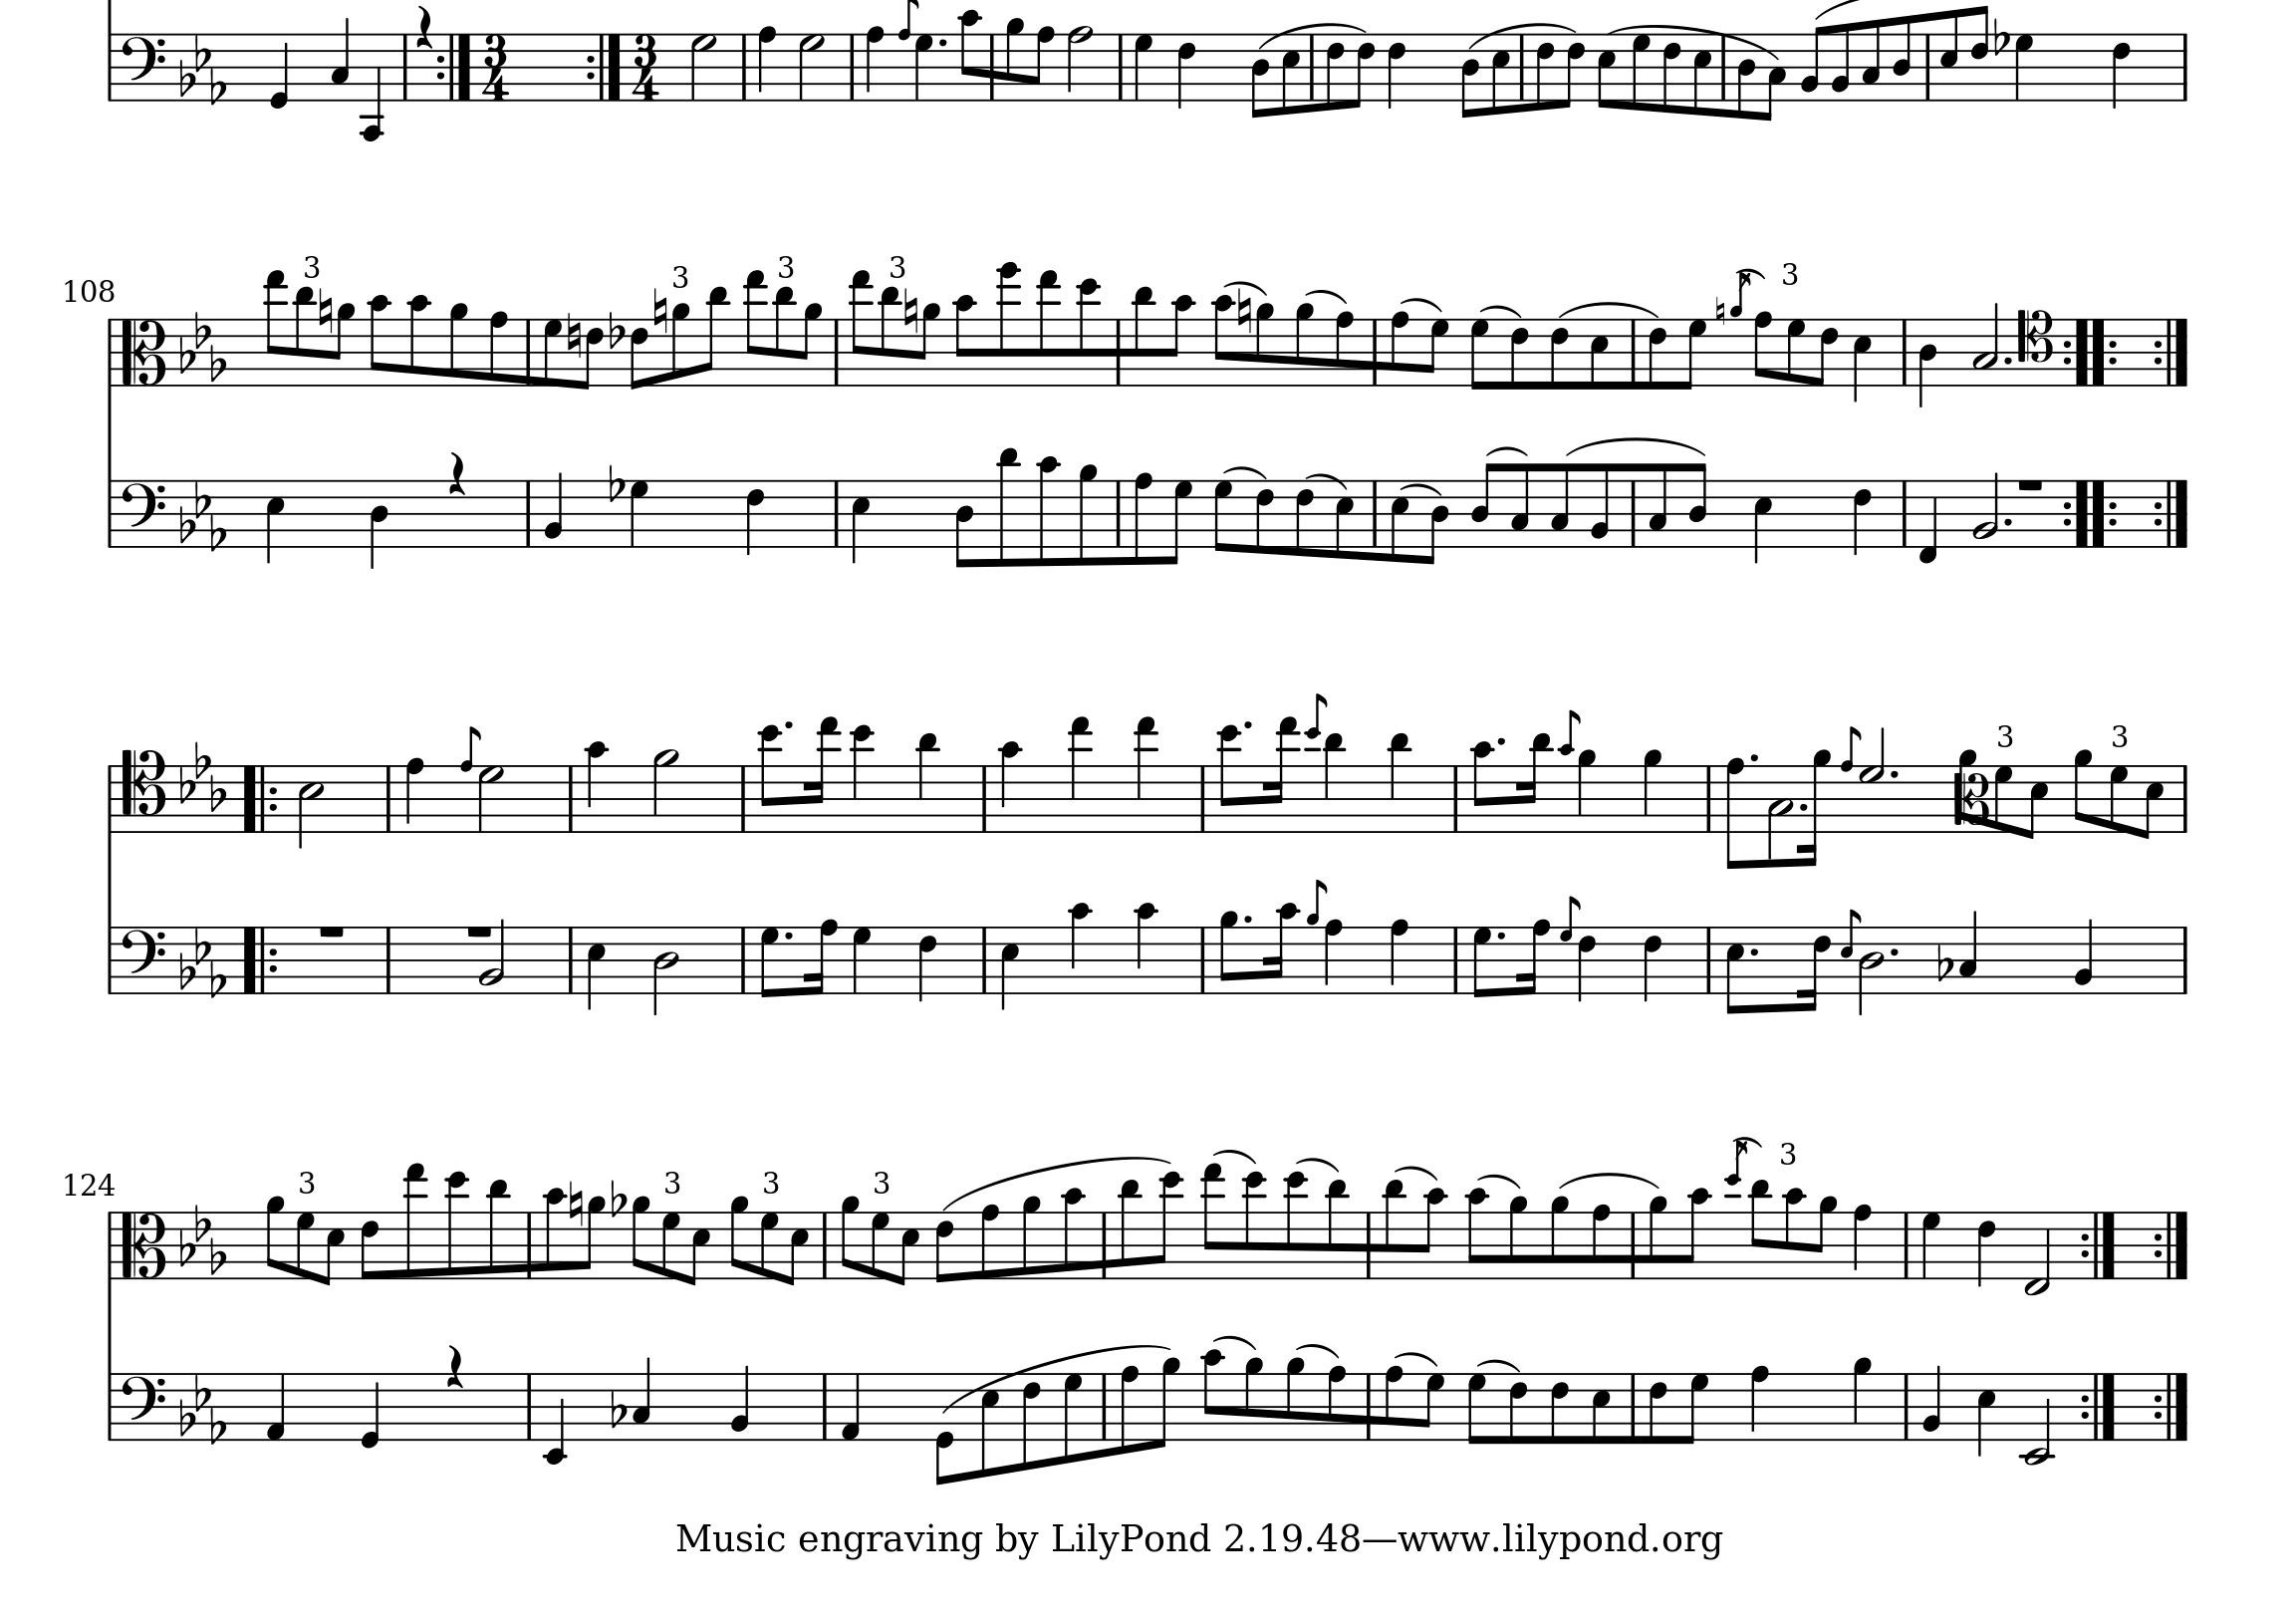0: (79, 276, 97, 304)
1: (63, 276, 77, 304), (63, 1171, 77, 1197)
16_10: (1265, 900, 1300, 995)
16_11: (1518, 731, 1553, 831)
16_13: (1265, 714, 1300, 833), (806, 714, 840, 833)
16_6: (1799, 923, 1832, 1012)
16_8: (805, 917, 838, 995), (1518, 917, 1551, 995)
16_9: (1797, 747, 1832, 866)
2: (79, 1171, 97, 1195)
2_-1: (2024, 1209, 2052, 1297)
2_-2: (2022, 1369, 2054, 1466)
2_2: (1973, 469, 2001, 548), (480, 919, 508, 997)
2_3: (1767, 763, 1794, 868), (1971, 301, 2001, 388)
2_4: (652, 923, 683, 1016), (1859, 923, 1885, 1014)
2_5: (295, 763, 325, 851)
2_7: (1860, 724, 1887, 833), (689, 32, 717, 102), (798, 32, 826, 102), (478, 763, 506, 833)
2_8: (1066, 25, 1094, 102)
2_9: (652, 747, 682, 833)
3: (481, 32, 508, 69), (632, 32, 659, 69), (887, 251, 906, 279), (302, 251, 321, 278), (871, 1169, 891, 1195), (671, 262, 689, 290), (1996, 722, 2015, 747), (1778, 1141, 1797, 1165), (297, 1169, 316, 1193), (776, 253, 794, 279), (761, 1171, 780, 1193), (662, 1169, 680, 1193), (2112, 722, 2127, 747)
4: (481, 69, 509, 100), (631, 69, 659, 100), (97, 1171, 116, 1197)
4_-1: (1918, 476, 1941, 562)
4_-2: (543, 1369, 569, 1464)
4_-4: (360, 32, 385, 139)
4_0: (360, 1369, 383, 1450), (269, 32, 292, 111)
4_1: (264, 1369, 288, 1441), (840, 1371, 863, 1441)
4_10: (583, 740, 610, 833), (1133, 900, 1158, 997), (1068, 900, 1093, 995), (998, 740, 1022, 833)
4_11: (1321, 731, 1347, 833), (915, 731, 940, 833), (1388, 731, 1412, 833)
4_12: (850, 724, 875, 833)
4_13: (1068, 715, 1091, 833), (1135, 717, 1158, 833)
4_2: (2073, 916, 2097, 995), (543, 471, 567, 548), (729, 1362, 752, 1441), (1920, 1362, 1943, 1441)
4_3: (631, 1353, 655, 1443), (1959, 907, 1982, 995), (329, 16, 351, 102)
4_4: (367, 476, 392, 571), (1918, 316, 1943, 408)
4_5: (264, 475, 290, 566), (585, 923, 610, 1011), (1852, 316, 1874, 404), (1975, 1369, 1997, 1457), (850, 478, 873, 564), (1751, 478, 1774, 564), (1000, 923, 1021, 1011)
4_6: (915, 923, 940, 1004), (1641, 923, 1665, 1004), (745, 478, 768, 557), (1852, 478, 1874, 557), (1576, 924, 1599, 1004), (1975, 1209, 1997, 1288), (1177, 32, 1198, 109), (1388, 32, 1409, 109), (2112, 32, 2131, 109)
4_7: (850, 924, 873, 995), (1920, 1209, 1943, 1280), (629, 478, 652, 547), (1133, 32, 1154, 102), (2013, 32, 2034, 102), (913, 33, 935, 102)
4_8: (1321, 917, 1346, 995), (1852, 1200, 1874, 1281), (1748, 1362, 1771, 1441), (864, 25, 887, 102), (404, 756, 427, 833), (1388, 917, 1411, 995), (757, 25, 778, 102)
4_9: (1574, 747, 1599, 833), (1641, 747, 1664, 833), (1852, 1355, 1874, 1441)
8: (98, 278, 116, 302)
8_0: (933, 1371, 956, 1485)
8_10: (1681, 1186, 1713, 1280), (1036, 453, 1061, 568), (1166, 294, 1196, 387), (1418, 1186, 1448, 1280), (1470, 738, 1497, 833), (408, 292, 432, 387), (1200, 1348, 1224, 1443), (957, 9, 982, 102), (367, 294, 392, 387), (1061, 1186, 1086, 1280), (1465, 1186, 1490, 1280), (1781, 1186, 1806, 1280), (543, 1186, 566, 1281), (954, 294, 977, 387), (1212, 294, 1235, 387)
8_11: (701, 285, 731, 388), (996, 448, 1021, 568), (487, 1176, 511, 1280), (1325, 1176, 1349, 1280), (1381, 1178, 1405, 1280), (1748, 1178, 1773, 1280), (878, 285, 901, 388), (1133, 285, 1156, 388), (1119, 1178, 1142, 1280), (293, 283, 314, 388), (773, 283, 794, 387)
8_12: (1154, 1169, 1184, 1281), (757, 721, 783, 833), (444, 1169, 469, 1281), (1217, 722, 1242, 833), (1284, 1171, 1309, 1281), (1079, 274, 1101, 387), (1244, 1171, 1267, 1281)
8_13: (1200, 1160, 1224, 1281), (402, 1160, 427, 1280), (1036, 267, 1059, 387), (264, 269, 286, 387), (745, 267, 766, 388), (850, 267, 871, 388)
8_14: (996, 260, 1021, 387)
8_2: (1588, 460, 1613, 548), (1801, 25, 1825, 102), (1830, 21, 1852, 102)
8_3: (1764, 32, 1788, 123), (1548, 460, 1572, 550), (1646, 460, 1671, 548), (1509, 460, 1532, 550), (1860, 18, 1883, 104)
8_4: (1423, 478, 1451, 566), (1470, 460, 1498, 548), (1890, 14, 1913, 102), (954, 478, 975, 569), (1736, 33, 1757, 121), (1688, 460, 1709, 548), (1460, 32, 1481, 118), (1251, 32, 1270, 118)
8_5: (978, 1369, 1000, 1478), (2024, 763, 2050, 840), (894, 1209, 921, 1287), (1939, 9, 1960, 102), (1725, 923, 1746, 1016), (2141, 763, 2166, 842), (321, 1209, 346, 1287), (687, 1209, 711, 1287), (785, 1209, 810, 1285), (1333, 478, 1354, 561), (1692, 32, 1711, 118), (1390, 478, 1409, 564), (1281, 32, 1300, 116), (1491, 32, 1511, 114), (1588, 316, 1609, 390), (1597, 32, 1616, 109), (1592, 1369, 1611, 1445)
8_6: (1021, 1369, 1042, 1471), (1351, 32, 1377, 107), (578, 316, 604, 390), (1969, 5, 1989, 102), (1562, 32, 1586, 107), (1646, 1369, 1669, 1445), (1509, 316, 1532, 390), (1646, 316, 1669, 390), (933, 1209, 956, 1283), (358, 1209, 381, 1281), (1816, 316, 1839, 387), (1535, 33, 1556, 109), (1254, 478, 1275, 554), (1507, 1369, 1528, 1445), (1549, 1369, 1570, 1445), (1662, 33, 1681, 114), (629, 316, 650, 390), (1549, 316, 1570, 390), (1325, 32, 1344, 111), (1295, 478, 1314, 557)
8_7: (1165, 478, 1195, 564), (1061, 1371, 1084, 1464), (1681, 1369, 1709, 1445), (1679, 316, 1708, 390), (1418, 1369, 1446, 1441), (1423, 316, 1451, 387), (1630, 32, 1651, 111), (759, 924, 782, 997), (293, 1207, 316, 1280), (1992, 763, 2015, 833), (659, 1209, 682, 1280), (1467, 1371, 1488, 1446), (1469, 316, 1490, 390), (1214, 478, 1235, 552), (541, 316, 562, 388), (1472, 924, 1493, 997), (870, 1207, 891, 1280), (1787, 316, 1808, 387), (2108, 763, 2129, 833), (759, 1209, 780, 1280)
8_8: (1725, 756, 1750, 868), (1133, 471, 1156, 568), (1031, 25, 1058, 100), (1119, 1362, 1140, 1455), (1383, 1362, 1405, 1441), (1333, 309, 1356, 387), (1751, 309, 1774, 387), (978, 1202, 1001, 1280), (1590, 1202, 1613, 1280), (488, 309, 509, 388), (1326, 1362, 1347, 1441), (1390, 309, 1411, 387)
8_9: (1152, 1357, 1180, 1448), (1077, 460, 1100, 568), (330, 302, 358, 388), (580, 1195, 606, 1280), (1813, 1195, 1839, 1280), (799, 301, 824, 387), (917, 301, 942, 387), (448, 301, 471, 387), (1217, 909, 1240, 995), (1021, 1193, 1043, 1280), (1507, 1193, 1530, 1280), (629, 1195, 652, 1280), (1646, 1195, 1669, 1280), (1254, 301, 1275, 388), (1244, 1355, 1265, 1443), (729, 1193, 750, 1280), (840, 1193, 861, 1280), (1005, 16, 1026, 100), (1295, 302, 1316, 387), (1549, 1195, 1570, 1280), (1284, 1357, 1305, 1441), (671, 302, 690, 388), (2073, 747, 2092, 833), (265, 1193, 285, 1280)
Acciaccature: (1722, 1141, 1751, 1280)
Appoggiature: (1555, 707, 1581, 833), (1303, 689, 1326, 828), (455, 724, 481, 831), (1302, 877, 1325, 995), (1838, 722, 1862, 831), (1556, 893, 1581, 997), (1838, 909, 1860, 995)
Cclef: (118, 316, 169, 388), (118, 1209, 169, 1280), (1955, 761, 1989, 831)
Fclef: (118, 476, 167, 548), (119, 923, 167, 995), (121, 1369, 167, 1441), (121, 32, 167, 102)
Flat: (1934, 940, 1953, 984), (608, 1388, 627, 1429), (606, 460, 624, 503), (608, 1176, 625, 1218), (1992, 16, 2008, 56), (608, 309, 624, 350)
LeftRepeatSign: (241, 763, 279, 831), (242, 926, 279, 993)
Natural: (1235, 286, 1253, 334), (567, 1176, 583, 1227), (566, 309, 581, 359), (652, 285, 668, 334), (903, 285, 917, 334), (318, 286, 332, 332), (1713, 294, 1727, 327)
Rests1: (2015, 475, 2047, 494), (316, 921, 348, 940), (464, 921, 492, 940)
Rests4: (444, 1339, 466, 1388), (446, 448, 467, 496), (415, 4, 434, 49)
RightAndLeftRepeatSign: (2061, 480, 2120, 547), (2062, 316, 2120, 383)
RightRepeatSign: (2150, 478, 2194, 548), (2150, 318, 2194, 387), (432, 32, 474, 100), (2078, 1373, 2120, 1441), (2078, 1211, 2120, 1278), (2152, 1371, 2191, 1441), (2152, 1211, 2191, 1280), (585, 33, 622, 100)
Single_barline: (516, 478, 539, 547), (98, 765, 121, 831), (1193, 926, 1216, 993), (98, 1211, 121, 1278), (734, 32, 755, 100), (1894, 478, 1915, 547), (560, 924, 581, 993), (1446, 924, 1467, 993), (1697, 924, 1718, 993), (102, 480, 123, 547), (560, 765, 581, 831), (733, 765, 754, 831), (975, 765, 996, 831), (1699, 765, 1720, 831), (102, 926, 123, 993), (378, 926, 399, 993), (733, 926, 754, 993), (102, 1373, 123, 1439), (1193, 765, 1214, 830), (1446, 765, 1467, 830), (379, 763, 399, 831), (1112, 33, 1131, 100), (2175, 33, 2194, 100), (395, 33, 415, 100), (827, 480, 847, 547), (975, 926, 994, 993), (1358, 1211, 1377, 1278), (1897, 1373, 1917, 1439), (1623, 1373, 1643, 1438), (1625, 482, 1644, 545), (1895, 316, 1913, 385), (1897, 1209, 1915, 1278), (1920, 33, 1938, 100), (100, 318, 118, 385), (827, 318, 845, 385), (1108, 480, 1126, 547), (815, 1211, 833, 1278), (1096, 1211, 1114, 1278), (817, 1373, 834, 1439), (1096, 1373, 1114, 1439), (520, 316, 538, 381), (1367, 480, 1384, 545), (102, 32, 118, 100), (522, 1209, 538, 1278), (984, 33, 1000, 100), (1110, 318, 1126, 385), (1715, 47, 1734, 102), (1303, 35, 1319, 100), (1627, 318, 1643, 383), (1625, 1213, 1641, 1276), (1514, 33, 1528, 100)
Slur: (1260, 21, 1367, 47), (1565, 436, 1706, 455), (1469, 23, 1578, 47), (1556, 1171, 1662, 1190), (1556, 301, 1660, 318), (1212, 1146, 1258, 1165), (1305, 471, 1349, 490), (1295, 1155, 1340, 1172), (1393, 1164, 1439, 1181), (1303, 286, 1347, 304), (1400, 295, 1444, 313), (1214, 1332, 1258, 1350), (1296, 1341, 1340, 1359), (1476, 1172, 1523, 1188), (1221, 464, 1267, 480), (1393, 1350, 1439, 1366), (1476, 1357, 1521, 1373), (1477, 302, 1521, 318), (1224, 279, 1267, 295), (1400, 482, 1440, 497), (1484, 445, 1528, 457)
Tensor_Cclef: (118, 747, 167, 833), (2015, 308, 2055, 387)
TimeSig: (480, 33, 511, 102), (631, 33, 661, 100)
dot: (2171, 765, 2198, 831), (2173, 924, 2196, 993), (520, 1373, 541, 1439), (1744, 944, 1762, 960), (1746, 750, 1762, 765), (1240, 910, 1254, 926), (1495, 928, 1509, 944), (2001, 353, 2015, 367), (782, 928, 796, 942), (935, 35, 949, 47), (1242, 717, 1254, 729), (782, 717, 794, 729), (1495, 735, 1507, 747), (1888, 766, 1899, 779), (1797, 801, 1809, 812), (1888, 946, 1899, 958), (2003, 517, 2013, 527)
